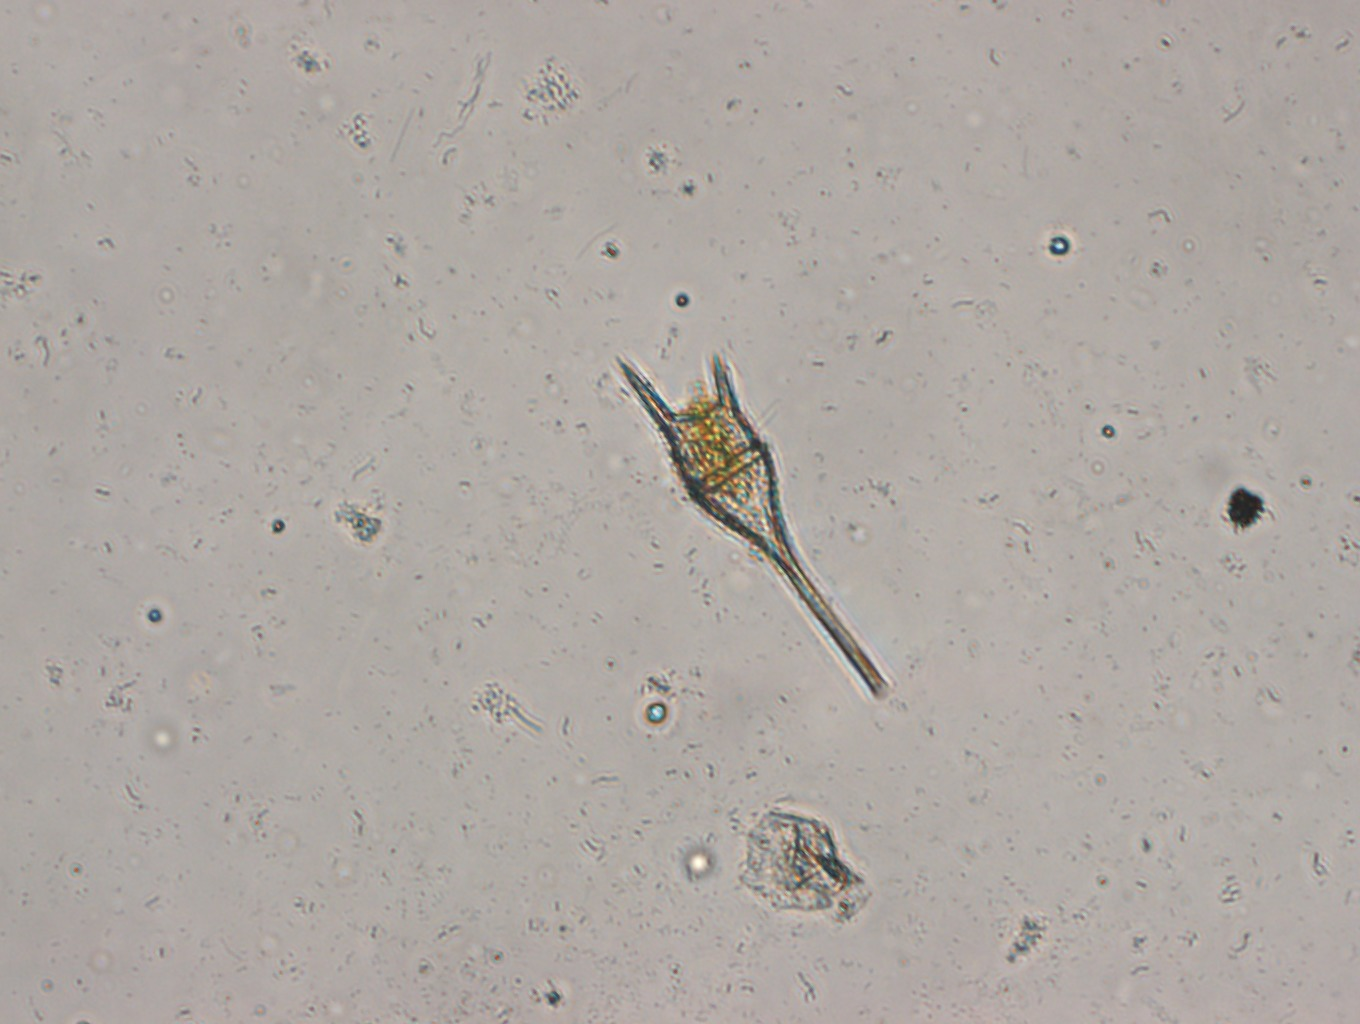ceratium furca: (607, 351, 894, 712)
